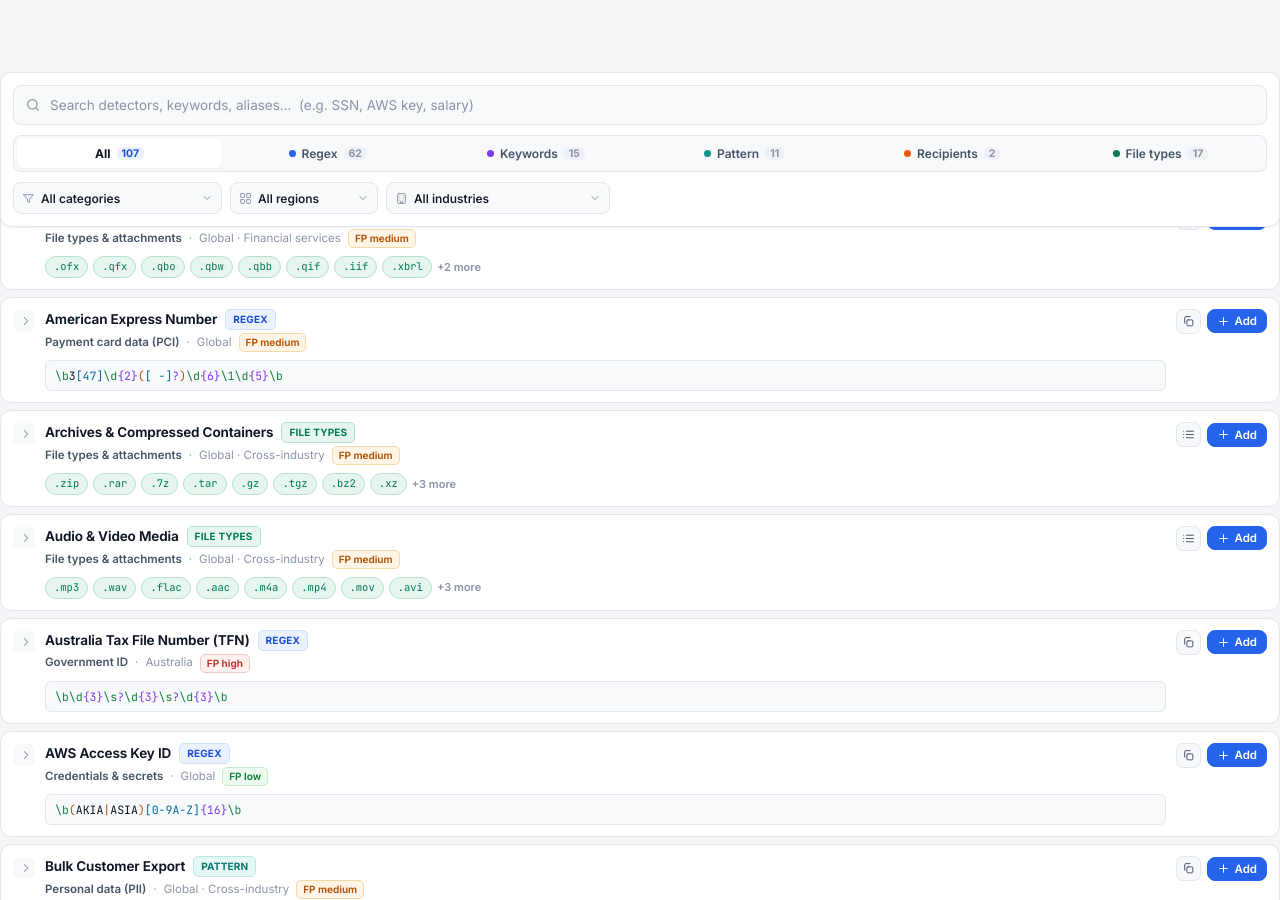
Test: LibraryPanel filtering › filters by search query and updates the count and matching note
Replace the text in the field with class "search" with "SSN": (640, 105) [13,85,1267,125]
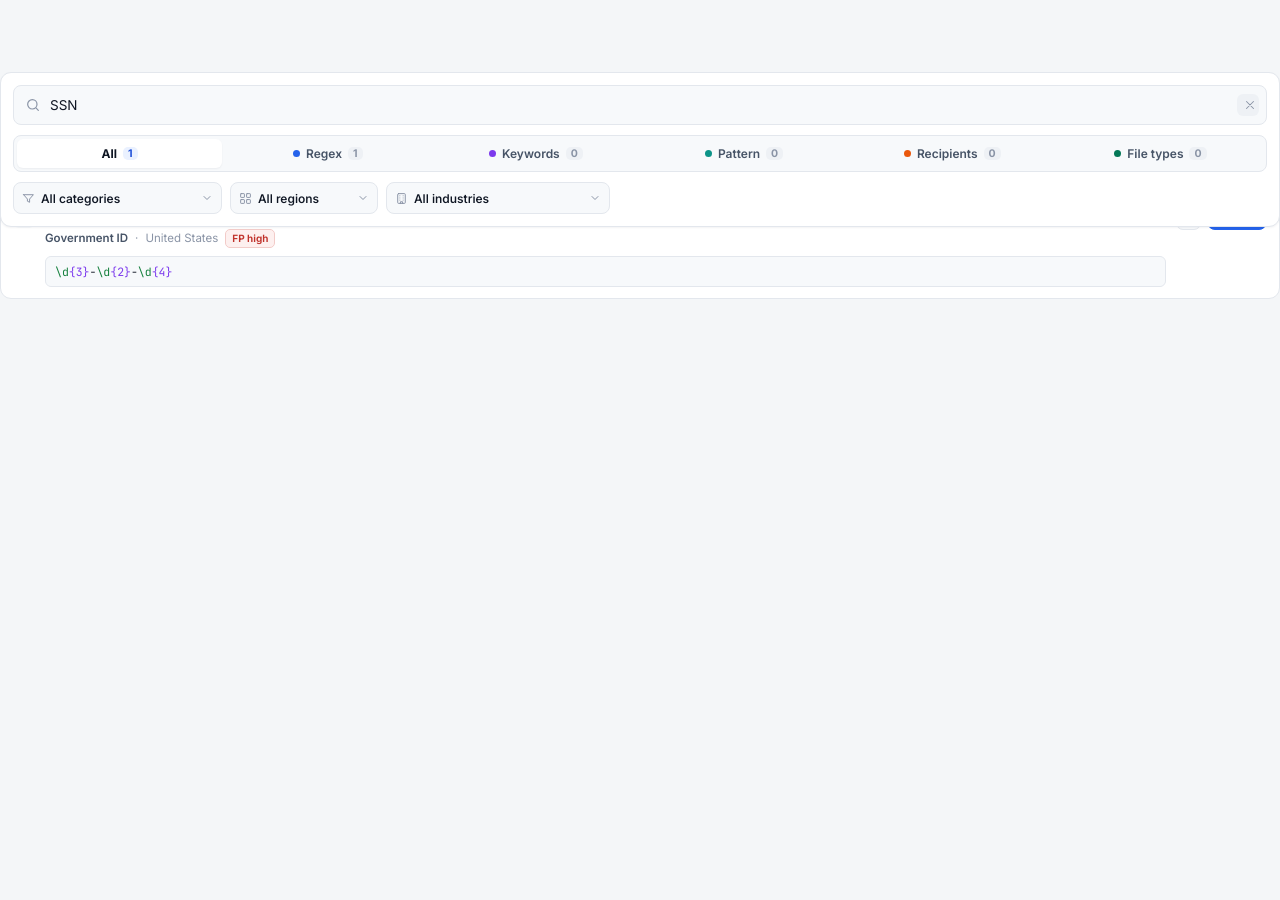
Expected: the element with class "lib-count" shows "1 of 1 detectors", [4,168,190,183]
Result: the number of elements with class "lib-row" is 1 at [0,193,1279,299]
